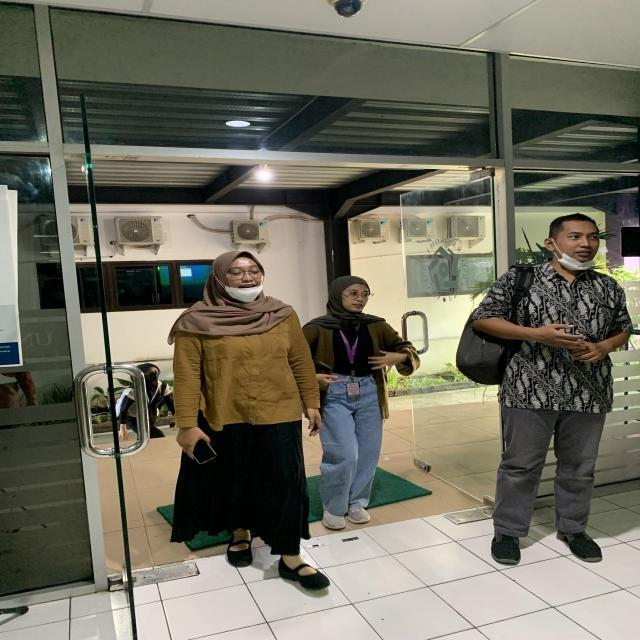hairnet: (546, 212, 606, 275), (208, 251, 262, 296)
